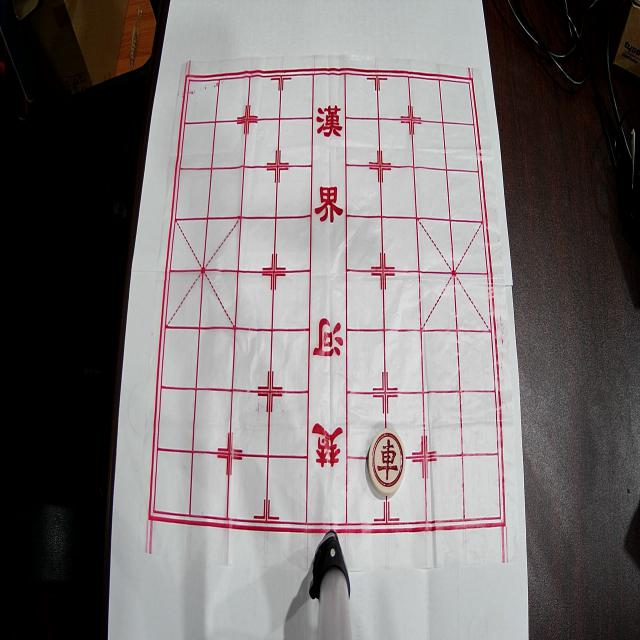red-chariot: (368, 428, 406, 496)
